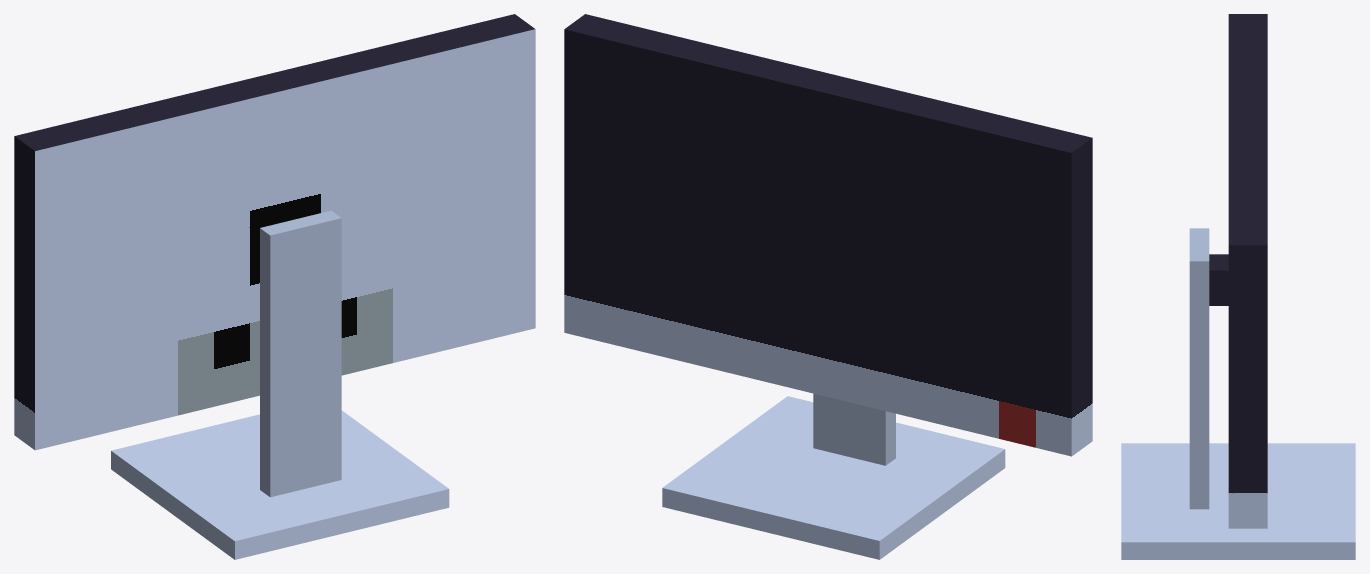
File: Screen.glb
3 views of the same model, side by side, from view 1: azimuth 30°, elevation 25°; view 2: azimuth 150°, elevation 25°; view 3: azimuth 270°, elevation 25° (orthographic). The views are drawn at different scales.
Parts seen in each view (by area): view 1: screen, plateau, stand; view 2: screen, plateau, stand; view 3: plateau, screen, stand, connector.
Boxes of the visible parts, <box> form: screen: <box>14,14,535,450</box>; plateau: <box>111,410,449,559</box>; stand: <box>260,210,341,497</box>; screen: <box>564,14,1092,456</box>; plateau: <box>662,396,1005,559</box>; stand: <box>813,393,895,465</box>; plateau: <box>1121,443,1355,559</box>; screen: <box>1228,14,1267,528</box>; stand: <box>1189,228,1209,509</box>; connector: <box>1209,254,1228,305</box>.
Size of the model in its own units: 0.875 by 0.6719 by 0.375.
1 material, 1 textured.
